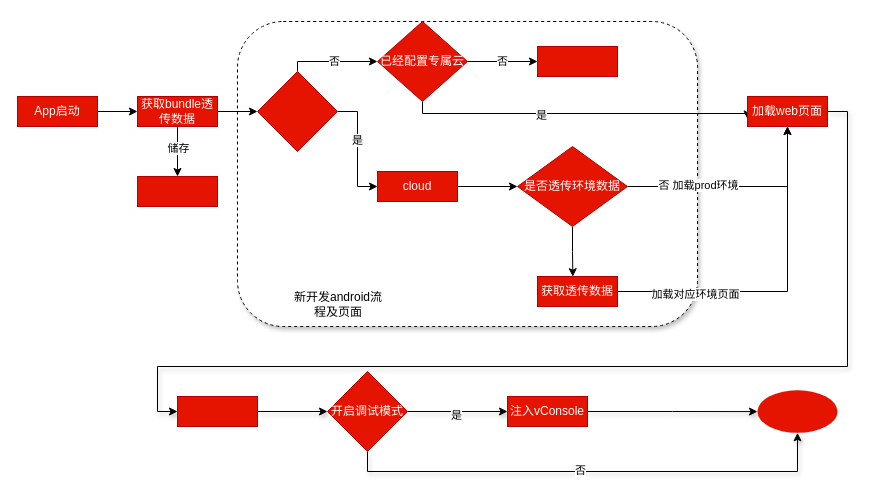
This 879x504 diagram has some shape labels left out. Here are the shapes that lost their labels. From the top down, the centre of each, then its label:
point 577,61: 专属云配置页
point 297,111: 是否cloud包
point 177,191: application
point 217,411: 注入cordova依赖
point 797,411: 结束
